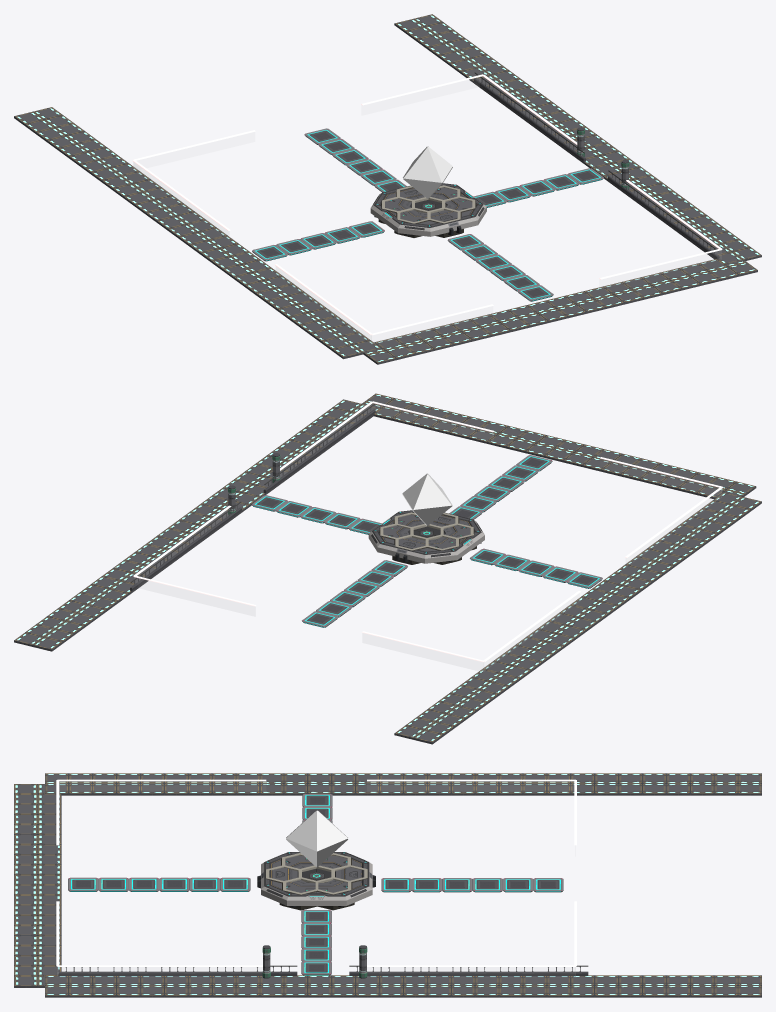
The model's file is Central.glb.
3 views of the same model, one above another, from view 1: azimuth 30°, elevation 25°; view 2: azimuth 150°, elevation 25°; view 3: azimuth 270°, elevation 25° (orthographic). The views are drawn at different scales.
Visible parts, largest first — view 1: SM_Bld_Pod_Pad_01, Geo_Octahedron_Low, SM_Bld_Window_05, SM_Bld_Platform_Large_10__11__3, SM_Bld_Platform_Large_10__2__1, SM_Bld_Platform_Large_10__9__2, SM_Bld_Platform_Large_10__10__2, SM_Bld_Platform_Large_10__3__1, SM_Bld_Platform_Large_10__1__1, SM_Bld_Platform_Large_10__5__1, SM_Bld_Platform_Large_10__6__1, SM_Bld_Platform_Large_10__4__1 (+31 smaller); view 2: SM_Bld_Pod_Pad_01, Geo_Octahedron_Low, SM_Bld_Window_05, SM_Bld_Platform_Large_10__15_, SM_Bld_Platform_Large_10__15__1, SM_Bld_Platform_Large_10__2__1, SM_Bld_Platform_Large_10__3__1, SM_Bld_Platform_Large_10__4__1, SM_Bld_Platform_Large_10__3__2, SM_Bld_Platform_Large_10__8__2, SM_Bld_Platform_Large_10__4__2, SM_Bld_Platform_Large_10__5__2 (+31 smaller); view 3: SM_Bld_Pod_Pad_01, Geo_Octahedron_Low, SM_Bld_Window_05, SM_Bld_Platform_Large_10__13__1, SM_Bld_Platform_Large_10__14__1, SM_Bld_Platform_Large_10__13__2, SM_Bld_Platform_Large_10__14__2, SM_Bld_Platform_Large_10__4__2, SM_Bld_Platform_Large_10__12__1, SM_Bld_Platform_Large_10__15_, SM_Bld_Platform_Large_10__15__1, SM_Bld_Platform_Large_10__3_ (+53 smaller).
Part boxes in pixels (bbox=[...]): SM_Bld_Pod_Pad_01: bbox=[370, 183, 486, 236]; Geo_Octahedron_Low: bbox=[403, 146, 452, 198]; SM_Bld_Window_05: bbox=[374, 185, 476, 237]; SM_Bld_Platform_Large_10__11__3: bbox=[321, 332, 381, 359]; SM_Bld_Platform_Large_10__2__1: bbox=[508, 300, 567, 327]; SM_Bld_Platform_Large_10__9__2: bbox=[394, 328, 453, 355]; SM_Bld_Platform_Large_10__10__2: bbox=[432, 319, 491, 345]; SM_Bld_Platform_Large_10__3__1: bbox=[546, 291, 605, 318]; SM_Bld_Platform_Large_10__1__1: bbox=[470, 309, 529, 336]; SM_Bld_Platform_Large_10__5__1: bbox=[622, 272, 681, 299]; SM_Bld_Platform_Large_10__6__1: bbox=[660, 263, 719, 290]; SM_Bld_Platform_Large_10__4__1: bbox=[584, 282, 643, 308]; SM_Bld_Pod_Pad_01: bbox=[368, 510, 484, 563]; Geo_Octahedron_Low: bbox=[402, 473, 452, 525]; SM_Bld_Window_05: bbox=[379, 512, 481, 564]; SM_Bld_Platform_Large_10__15_: bbox=[14, 624, 73, 651]; SM_Bld_Platform_Large_10__15__1: bbox=[394, 717, 454, 744]; SM_Bld_Platform_Large_10__2__1: bbox=[544, 440, 603, 466]; SM_Bld_Platform_Large_10__3__1: bbox=[506, 430, 565, 457]; SM_Bld_Platform_Large_10__4__1: bbox=[468, 421, 527, 448]; SM_Bld_Platform_Large_10__3__2: bbox=[592, 572, 652, 599]; SM_Bld_Platform_Large_10__8__2: bbox=[483, 653, 542, 679]; SM_Bld_Platform_Large_10__4__2: bbox=[570, 588, 630, 615]; SM_Bld_Platform_Large_10__5__2: bbox=[548, 604, 608, 631]; SM_Bld_Pod_Pad_01: bbox=[261, 852, 372, 905]; Geo_Octahedron_Low: bbox=[286, 810, 347, 866]; SM_Bld_Window_05: bbox=[257, 853, 375, 910]; SM_Bld_Platform_Large_10__13__1: bbox=[618, 975, 666, 997]; SM_Bld_Platform_Large_10__14__1: bbox=[666, 975, 714, 997]; SM_Bld_Platform_Large_10__13__2: bbox=[618, 773, 666, 795]; SM_Bld_Platform_Large_10__14__2: bbox=[666, 773, 714, 795]; SM_Bld_Platform_Large_10__4__2: bbox=[331, 773, 379, 795]; SM_Bld_Platform_Large_10__12__1: bbox=[570, 975, 618, 997]; SM_Bld_Platform_Large_10__15_: bbox=[714, 975, 761, 997]; SM_Bld_Platform_Large_10__15__1: bbox=[714, 773, 761, 795]; SM_Bld_Platform_Large_10__3_: bbox=[284, 975, 331, 997].
Size of the model in its own units: 55.01 by 9.1 by 78.23.
7 materials, 4 textured.
